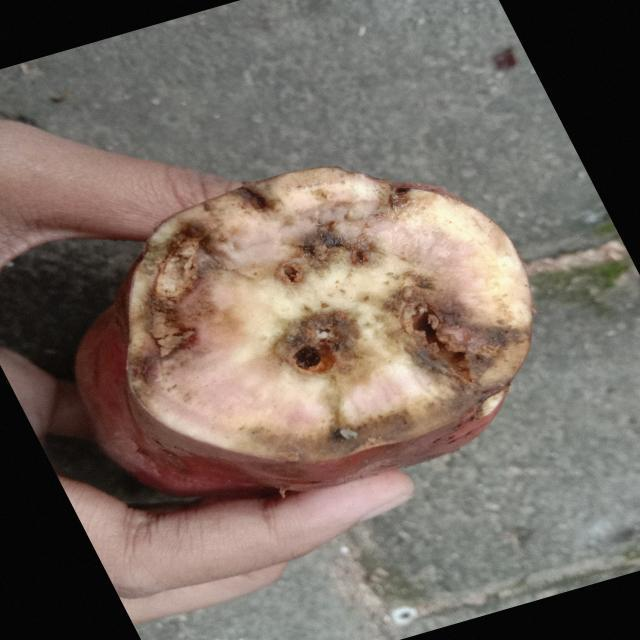Sick Sweet Potato_Tuber Rot: (128, 168, 532, 462)
